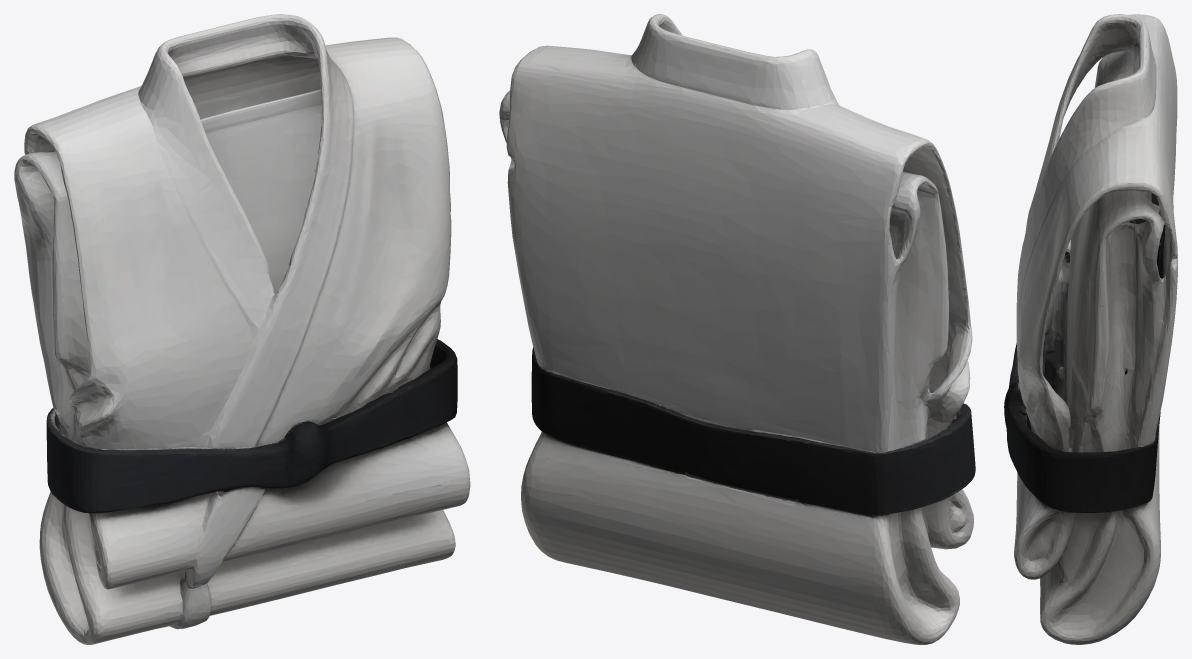
File: karate-uniform.glb
The picture shows the model from 3 angles, left to right: view 1: azimuth 30°, elevation 25°; view 2: azimuth 150°, elevation 25°; view 3: azimuth 270°, elevation 25°; orthographic projection. The views are drawn at different scales.
Visible parts, largest first — view 1: geometry_0; view 2: geometry_0; view 3: geometry_0.
Boxes of the visible parts, box(x1,y1,x2,y2) form: geometry_0: box(14, 14, 470, 644); geometry_0: box(499, 14, 975, 644); geometry_0: box(1004, 14, 1177, 644).
Bounding box in the file's own units: 0.7542 × 0.9993 × 0.3034.
1 material, 1 textured.
